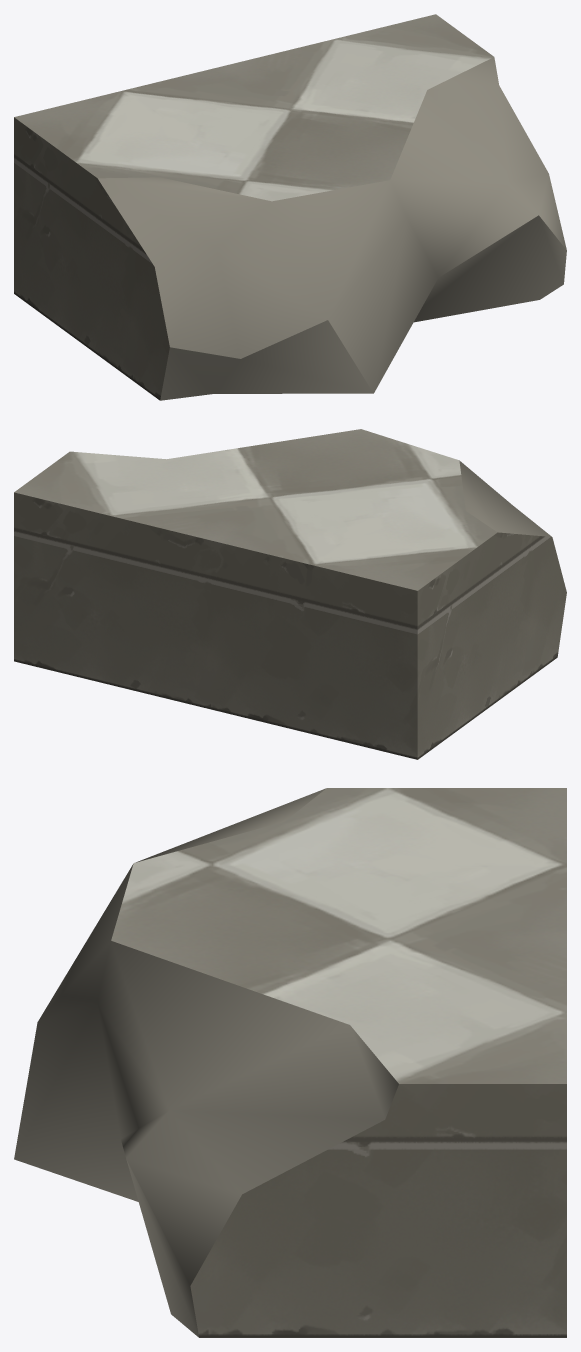
The model's file is graund01_Broken2.FBX.
3 renders of one model, top to bottom at view 1: azimuth 30°, elevation 25°; view 2: azimuth 150°, elevation 25°; view 3: azimuth 270°, elevation 25°, orthographic. The views are drawn at different scales.
Parts seen in each view (by area): view 1: Box001_Broken1; view 2: Box001_Broken1; view 3: Box001_Broken1.
Boxes of the visible parts, x1,y1,x2,y2 form: Box001_Broken1: (14,14,566,400); Box001_Broken1: (14,429,566,759); Box001_Broken1: (14,788,566,1337).
Bounding box in the file's own units: 200 × 80 × 158.
